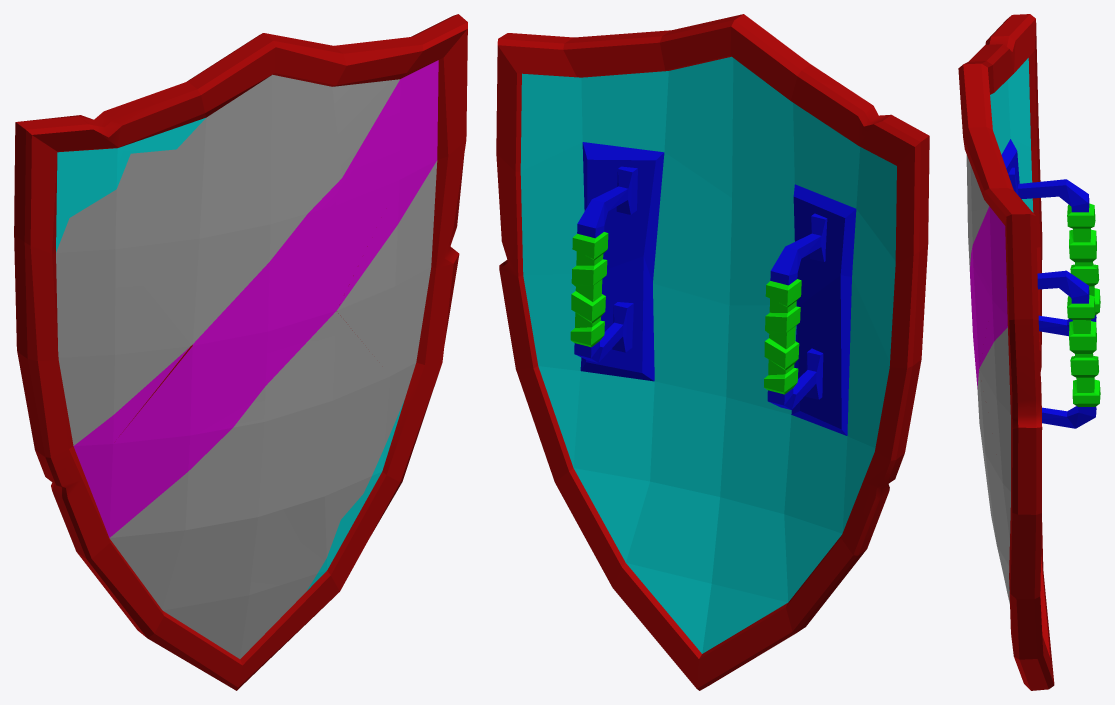
Rendered from Sheild_Common_Heraldic_03.fbx.
3 renders of one model, left to right at view 1: azimuth 30°, elevation 25°; view 2: azimuth 150°, elevation 25°; view 3: azimuth 270°, elevation 25°, orthographic. The views are drawn at different scales.
Parts seen in each view (by area): view 1: SM_Wep_Shield_09; view 2: SM_Wep_Shield_09; view 3: SM_Wep_Shield_09.
Part boxes in pixels (bbox=[...]): SM_Wep_Shield_09: bbox=[14, 14, 467, 690]; SM_Wep_Shield_09: bbox=[496, 14, 929, 690]; SM_Wep_Shield_09: bbox=[958, 14, 1100, 690].
Bounding box in the file's own units: 66.84 × 97.74 × 20.07.
